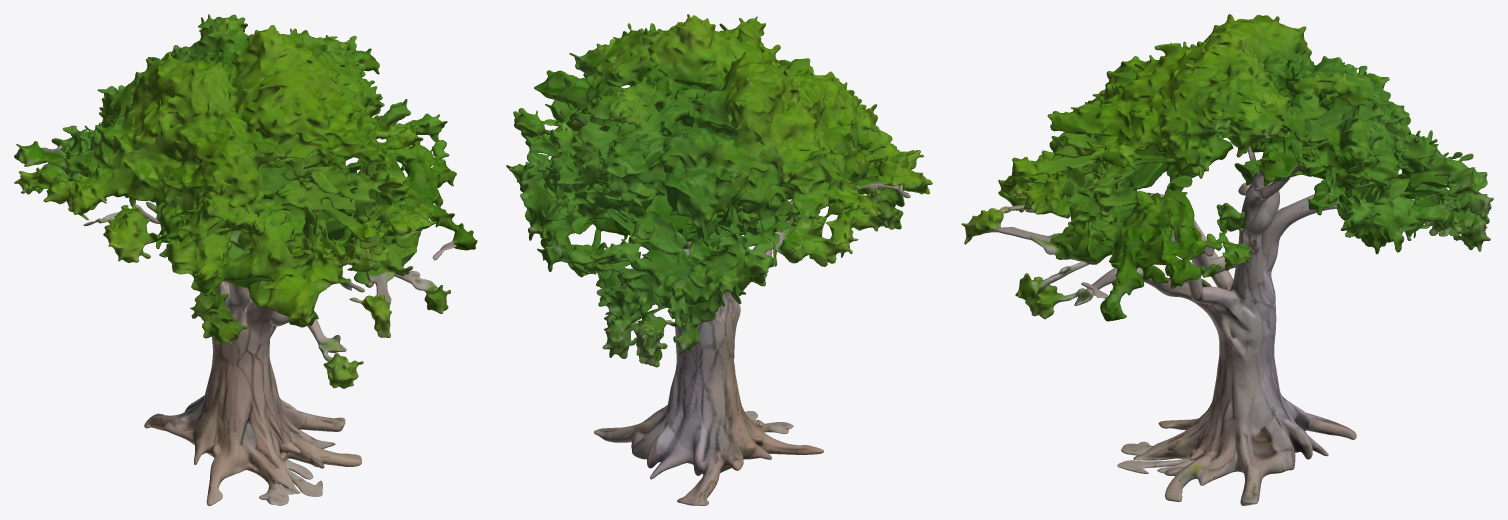
The model's file is tree.glb.
3 views of the same model, side by side, from view 1: azimuth 30°, elevation 25°; view 2: azimuth 150°, elevation 25°; view 3: azimuth 270°, elevation 25° (orthographic). The views are drawn at different scales.
Visible parts, largest first — view 1: tripo_node_2d2e69df-2ba0-40c1-98d7-ab29e1feaf11; view 2: tripo_node_2d2e69df-2ba0-40c1-98d7-ab29e1feaf11; view 3: tripo_node_2d2e69df-2ba0-40c1-98d7-ab29e1feaf11.
Part boxes in pixels (x1=…): tripo_node_2d2e69df-2ba0-40c1-98d7-ab29e1feaf11: x1=14, y1=14, x2=477, y2=505; tripo_node_2d2e69df-2ba0-40c1-98d7-ab29e1feaf11: x1=506, y1=14, x2=932, y2=505; tripo_node_2d2e69df-2ba0-40c1-98d7-ab29e1feaf11: x1=961, y1=14, x2=1493, y2=505.
Size of the model in its own units: 0.8438 by 0.9154 by 0.9998.
Materials: 1 (1 with a texture image).
